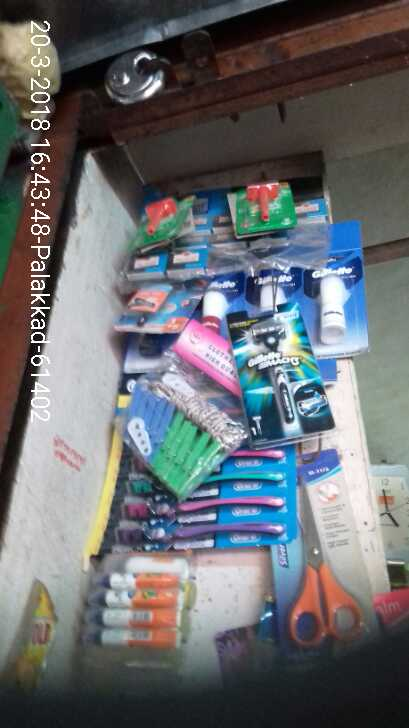gillette: (231, 314, 331, 440), (298, 261, 377, 347), (204, 272, 237, 338)
